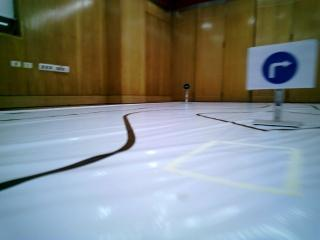right: (250, 47, 315, 88)
